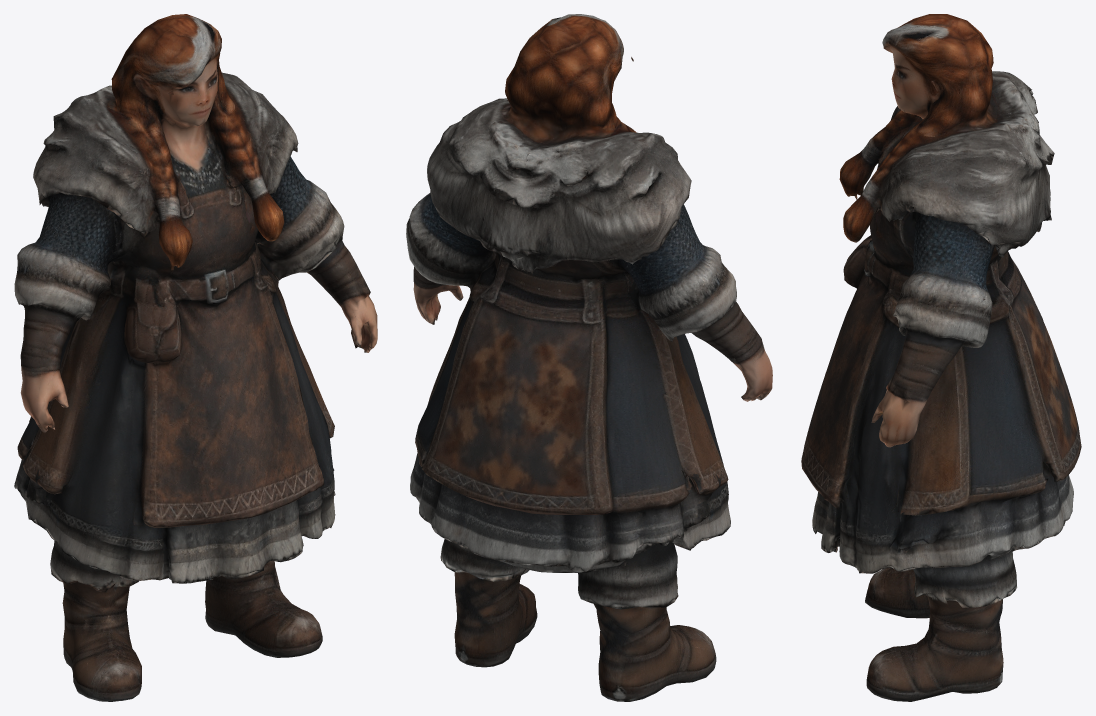
File: dwarf-female.glb
The picture shows the model from 3 angles, left to right: view 1: azimuth 30°, elevation 25°; view 2: azimuth 150°, elevation 25°; view 3: azimuth 270°, elevation 25°; orthographic projection.
Size of the model in its own units: 1.15 by 2 by 0.8059.
1 material, 1 textured.
